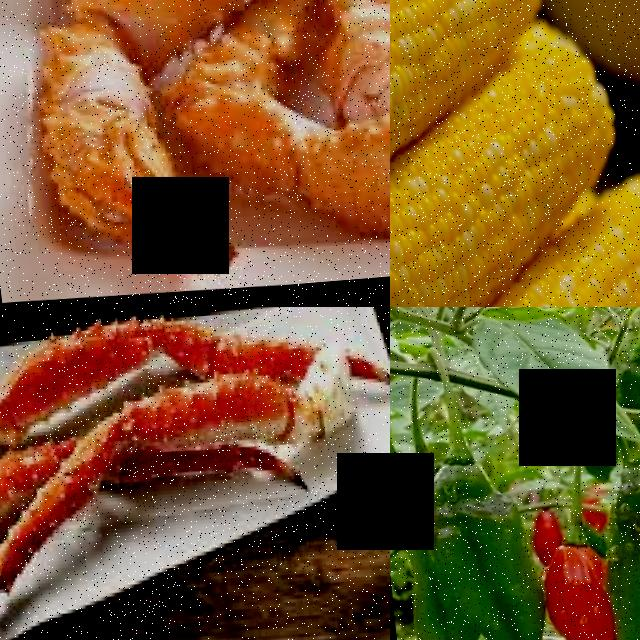chilli: (414, 439, 549, 640), (585, 448, 640, 640)
corn: (451, 42, 612, 255), (390, 0, 547, 98), (528, 180, 640, 307), (390, 175, 495, 307)
crab: (0, 307, 359, 589), (16, 0, 353, 279), (263, 0, 390, 210)
